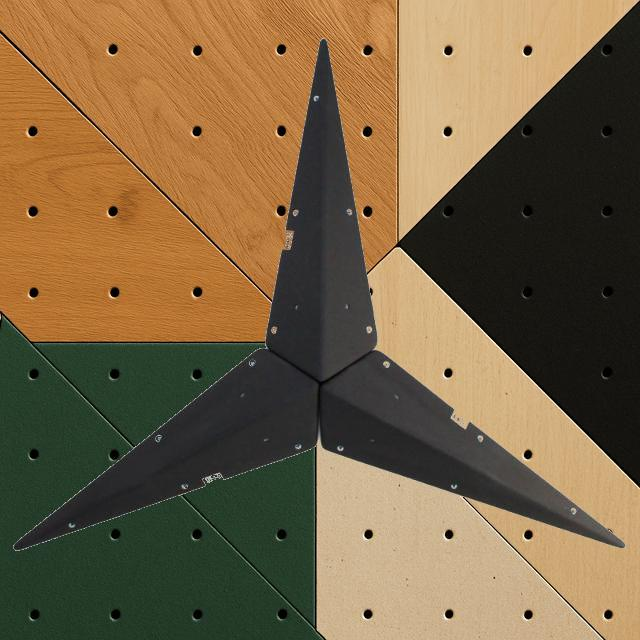Volume: (12, 346, 318, 550), (318, 348, 626, 548), (264, 37, 378, 381)
